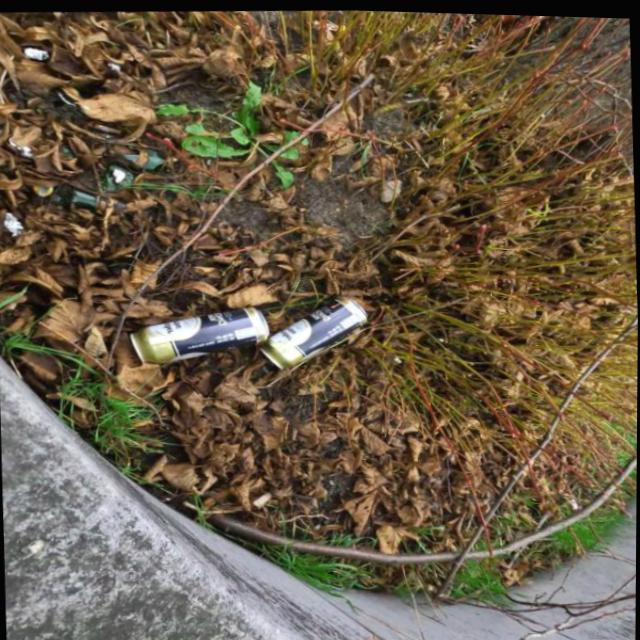Can-Metal: (255, 288, 371, 373), (126, 298, 272, 365), (494, 11, 555, 21)
